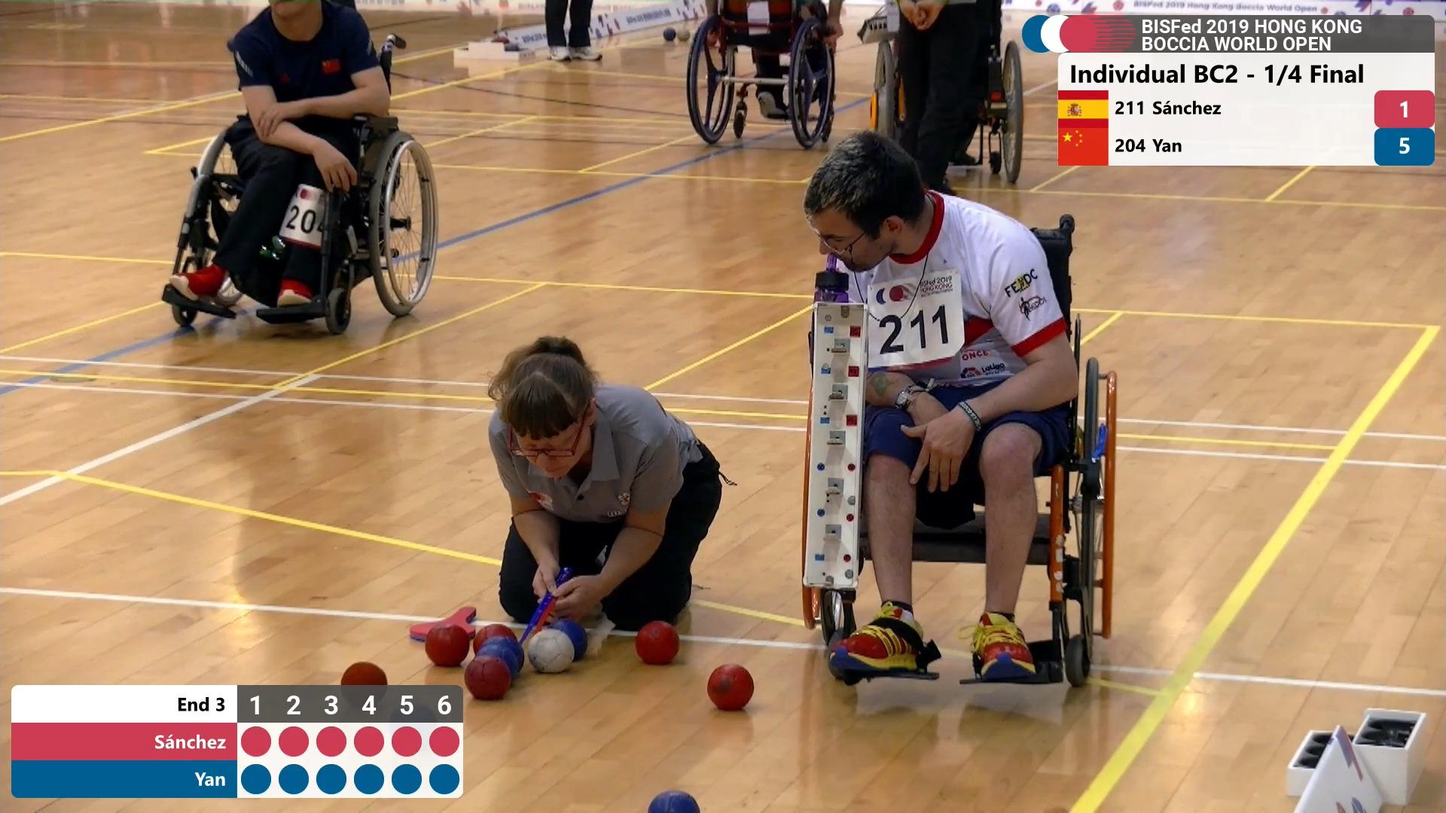blue_ball: (650, 789, 699, 813)
red_ball: (708, 663, 753, 711), (464, 658, 511, 699), (638, 623, 678, 664), (426, 626, 468, 664)
white_ball: (530, 630, 574, 675)
